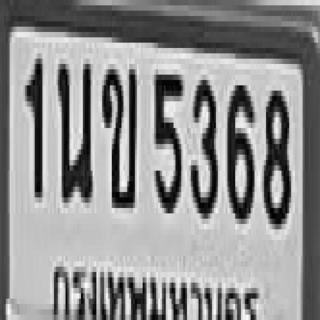A02: (100, 64, 135, 203)
A25: (56, 56, 91, 200)
N01: (23, 53, 40, 192)
N03: (189, 75, 216, 213)
N05: (152, 69, 181, 208)
N06: (225, 80, 252, 219)
N08: (262, 85, 289, 224)
P04: (47, 252, 260, 320)
